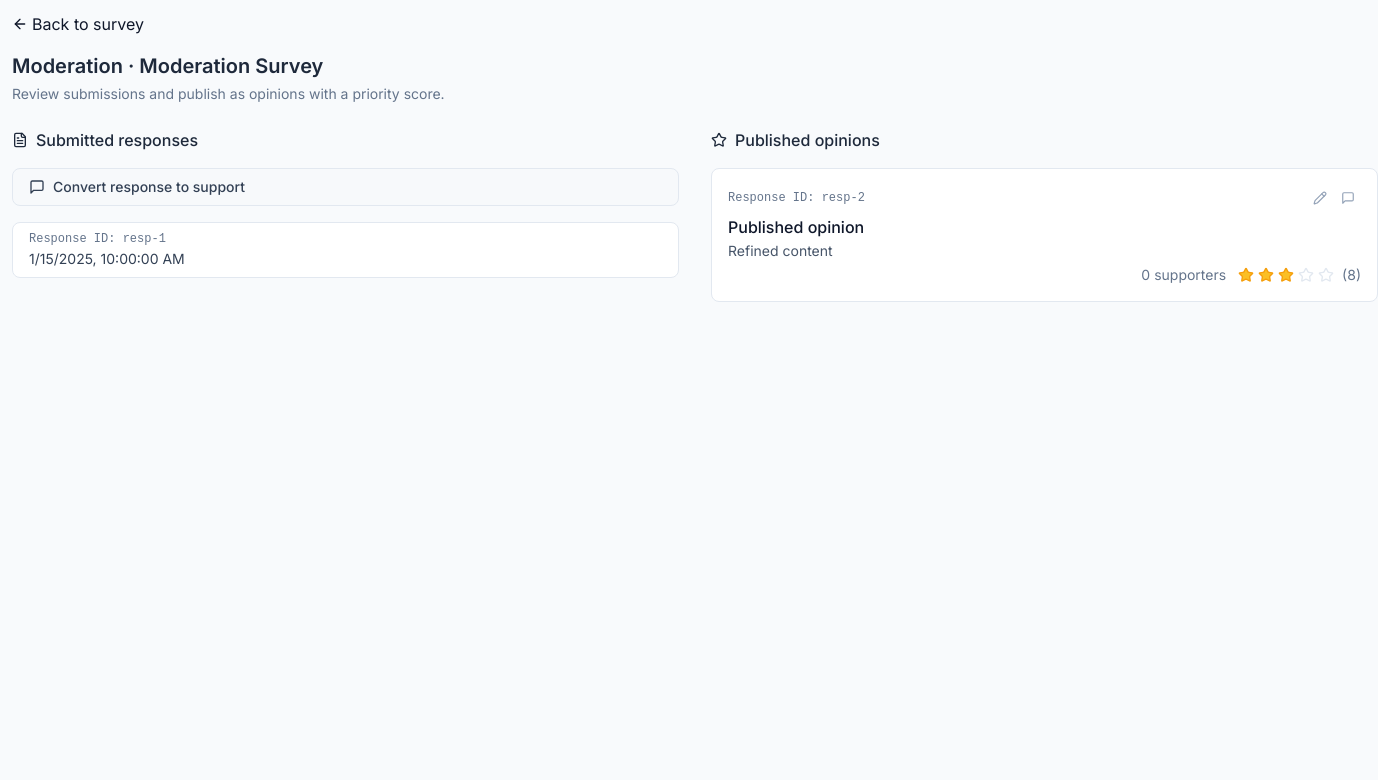
it: SurveyModeration › shows response detail and publish form when response is selected
Expected: the text "Response ID: resp-1" is shown, [29,232,166,246]
Click the button "Response ID: resp-1 1/15/2025, 10:00:00 AM": [76, 239] box [13,223,678,277]
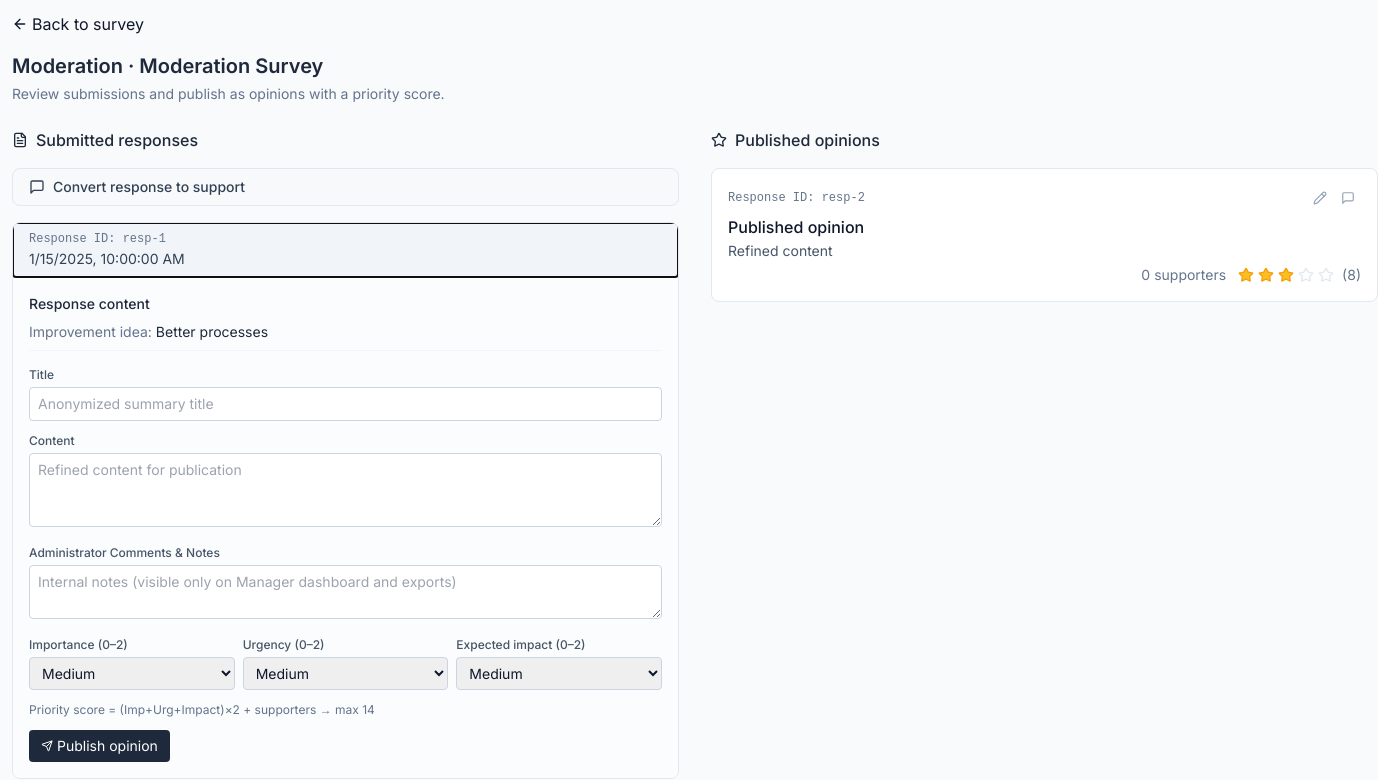
Now the heading "Response content" is shown, box [29,295,150,312]
Now the field with placeholder "Anonymized summary title" is shown, box [29,387,662,421]
Now the text box with placeholder "Refined content for publication" is shown, box [29,453,662,527]
